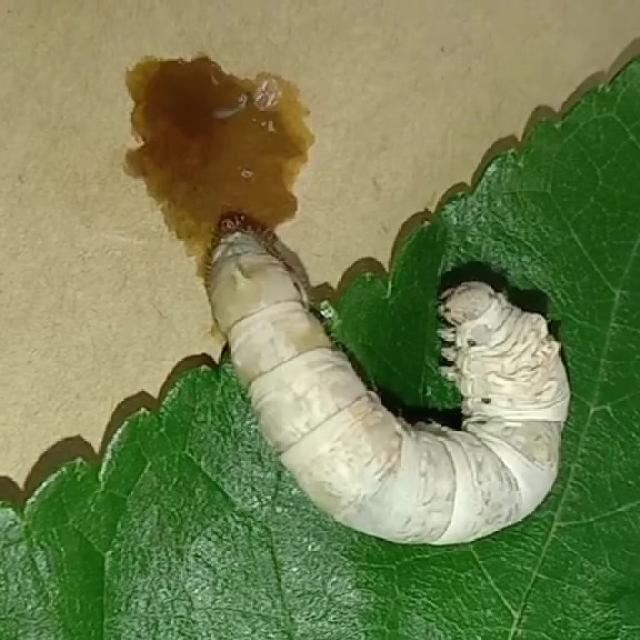Grasserie: (184, 193, 575, 547)
